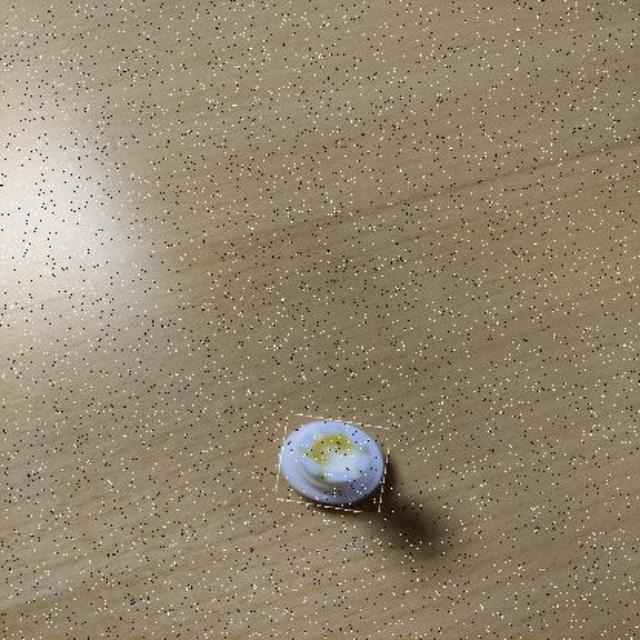white-rook: (278, 419, 388, 511)
